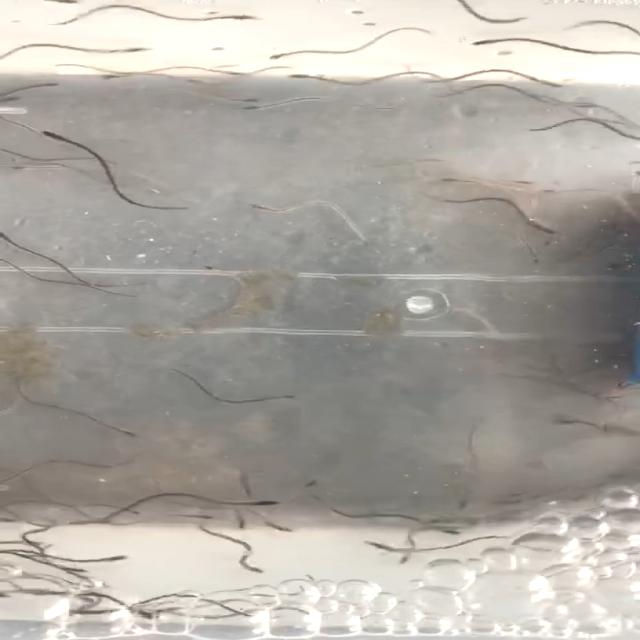active_glass_eel: (222, 509, 294, 543), (266, 43, 338, 60), (232, 196, 284, 218), (463, 30, 508, 54), (150, 504, 204, 524), (427, 517, 479, 537), (43, 132, 99, 150), (514, 204, 555, 228), (0, 105, 36, 132), (9, 153, 51, 175), (394, 546, 444, 564), (183, 7, 230, 26), (86, 38, 137, 54), (214, 85, 256, 104), (559, 414, 598, 434), (240, 550, 272, 574), (73, 553, 126, 567), (237, 491, 272, 511), (124, 600, 162, 618), (294, 70, 336, 85), (252, 101, 300, 113), (100, 71, 140, 85), (208, 64, 252, 76), (1, 472, 30, 489), (262, 393, 302, 405), (512, 68, 546, 82), (100, 422, 133, 436), (514, 9, 550, 21), (21, 80, 44, 98)
